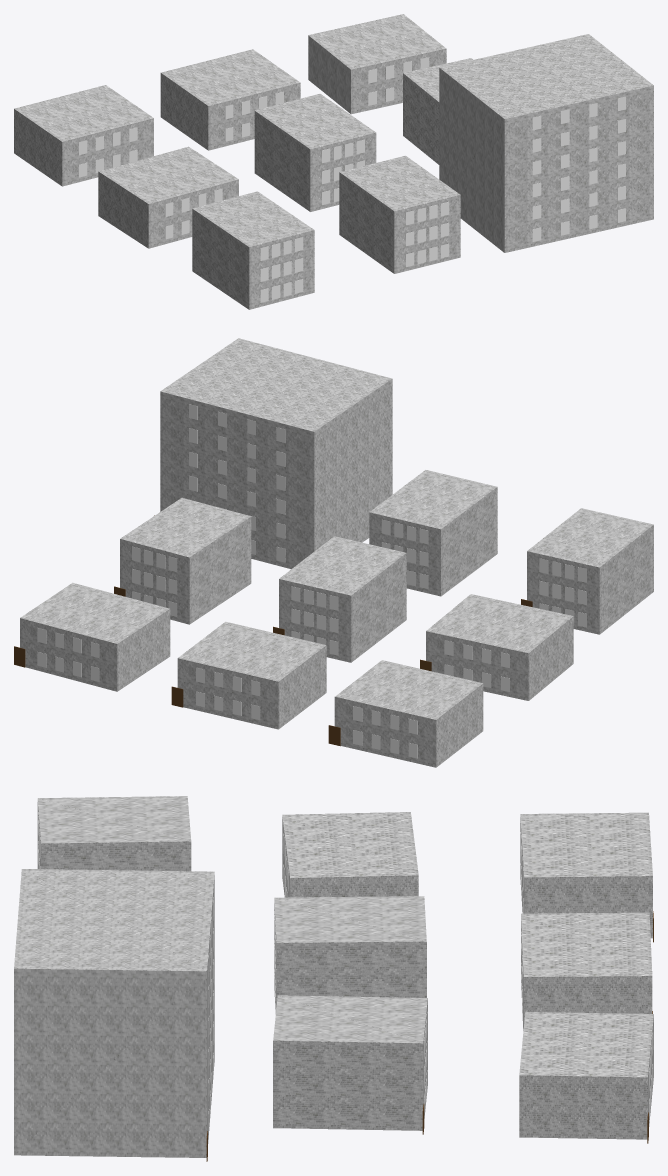
File: bld_mlmrqpd9_43b49j2.glb
3 views of the same model, one above another, from view 1: azimuth 30°, elevation 25°; view 2: azimuth 150°, elevation 25°; view 3: azimuth 270°, elevation 25° (orthographic). The views are drawn at different scales.
Parts seen in each view (by area): view 1: building-building-1771100879110-18, building-building-1771100879110-16, building-building-1771100879110-17, building-building-1771100879110-6, building-building-1771100879110-12, building-building-1771100879110-11, building-building-1771100879110-7, building-building-1771100879110-8, building-building-1771100879110-13; view 2: building-building-1771100879110-18, building-building-1771100879110-8, building-building-1771100879110-13, building-building-1771100879110-6, building-building-1771100879110-7, building-building-1771100879110-12, building-building-1771100879110-16, building-building-1771100879110-11, building-building-1771100879110-17; view 3: building-building-1771100879110-18, building-building-1771100879110-13, building-building-1771100879110-8, building-building-1771100879110-12, building-building-1771100879110-6, building-building-1771100879110-7, building-building-1771100879110-16, building-building-1771100879110-11.
Part boxes in pixels (left/top/right/bottom): building-building-1771100879110-18: left=439, top=34, right=653, bottom=252; building-building-1771100879110-16: left=192, top=191, right=314, bottom=309; building-building-1771100879110-17: left=339, top=155, right=460, bottom=273; building-building-1771100879110-6: left=14, top=85, right=153, bottom=186; building-building-1771100879110-12: left=254, top=93, right=376, bottom=211; building-building-1771100879110-11: left=98, top=146, right=238, bottom=248; building-building-1771100879110-7: left=160, top=49, right=300, bottom=150; building-building-1771100879110-8: left=308, top=14, right=446, bottom=114; building-building-1771100879110-13: left=403, top=58, right=472, bottom=164; building-building-1771100879110-18: left=154, top=338, right=392, bottom=569; building-building-1771100879110-8: left=14, top=582, right=170, bottom=691; building-building-1771100879110-13: left=114, top=497, right=251, bottom=624; building-building-1771100879110-6: left=328, top=660, right=483, bottom=767; building-building-1771100879110-7: left=171, top=621, right=326, bottom=729; building-building-1771100879110-12: left=273, top=536, right=406, bottom=662; building-building-1771100879110-16: left=521, top=508, right=653, bottom=634; building-building-1771100879110-11: left=420, top=594, right=573, bottom=700; building-building-1771100879110-17: left=369, top=470, right=497, bottom=596; building-building-1771100879110-18: left=14, top=869, right=214, bottom=1161; building-building-1771100879110-13: left=273, top=995, right=427, bottom=1134; building-building-1771100879110-8: left=519, top=1011, right=653, bottom=1143; building-building-1771100879110-12: left=274, top=896, right=426, bottom=1007; building-building-1771100879110-6: left=520, top=812, right=653, bottom=942; building-building-1771100879110-7: left=521, top=912, right=652, bottom=1030; building-building-1771100879110-16: left=37, top=796, right=191, bottom=871; building-building-1771100879110-11: left=282, top=812, right=418, bottom=897.
Size of the model in its own units: 63.4 by 19.23 by 59.63.
45 materials, 9 textured.
